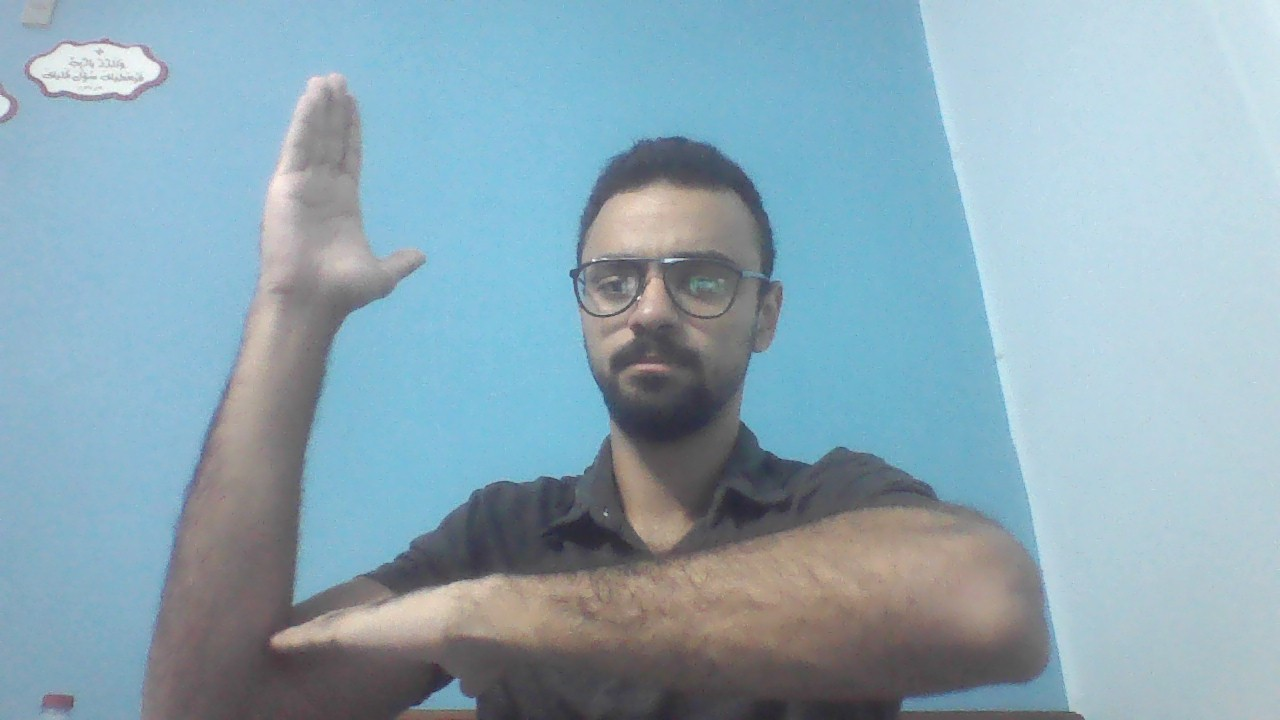morning: (139, 69, 1048, 695)
